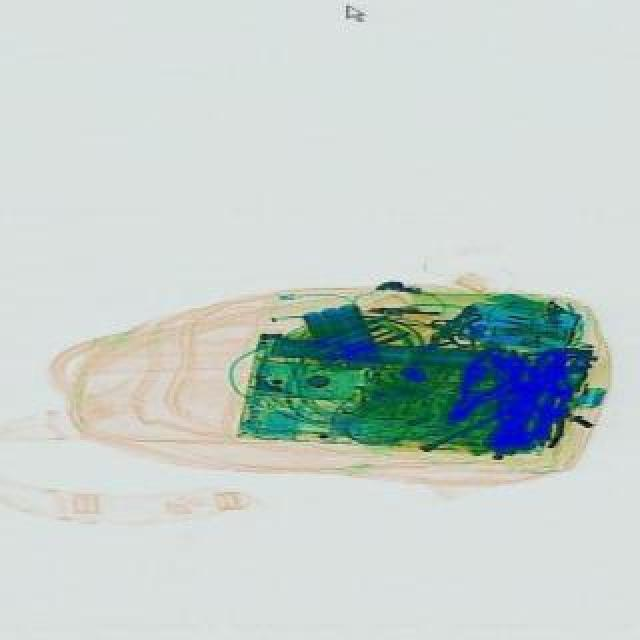wrench: (430, 336, 530, 438)
